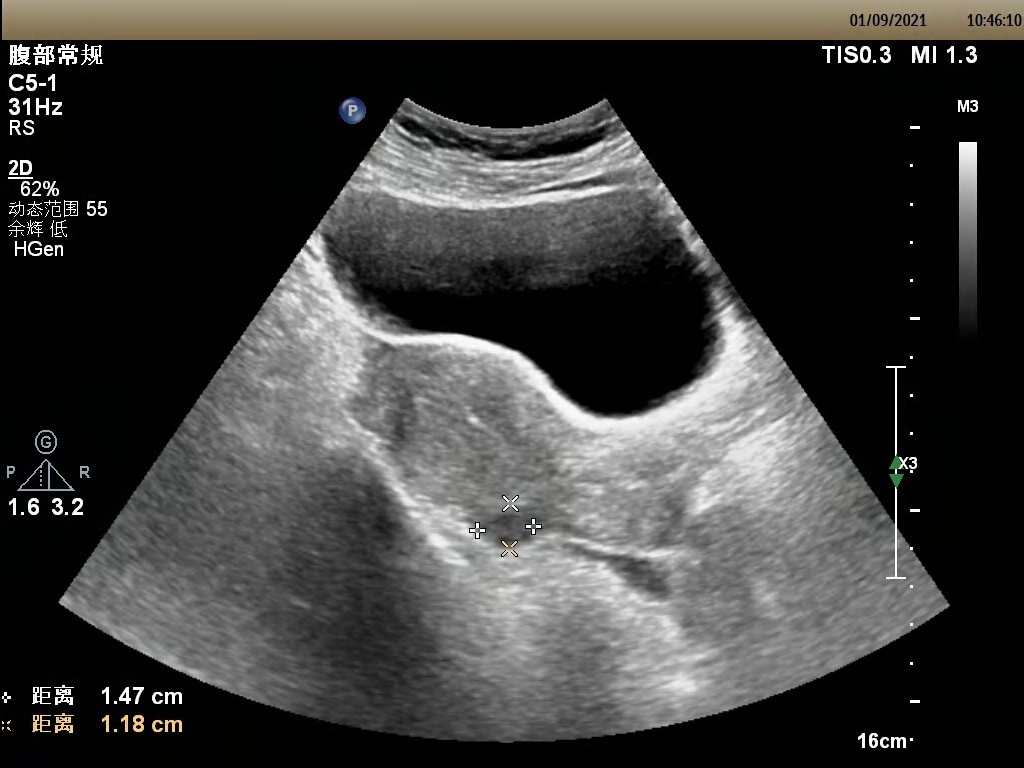肌瘤: (481, 509, 538, 544)
